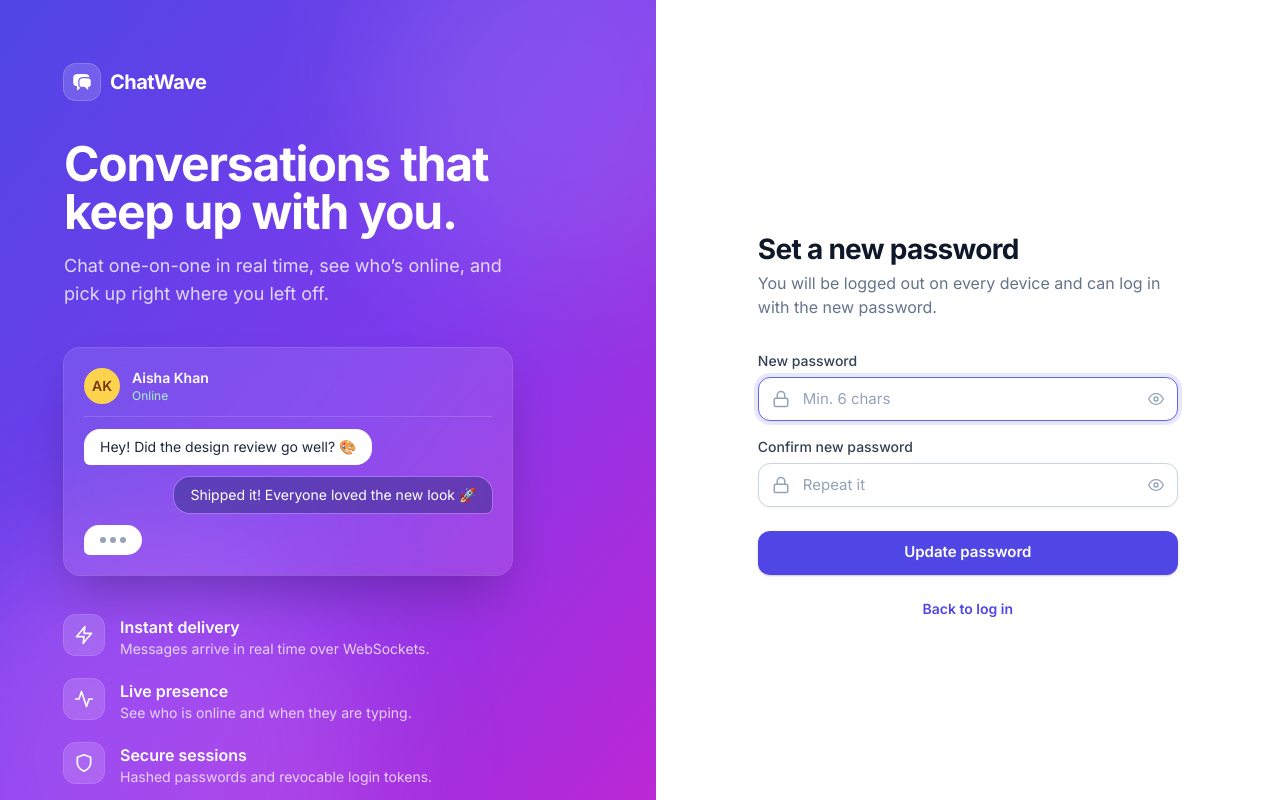
Test: Reset password page › an expired link from the server switches to the invalid-link screen
Type "newpass1" into the password field labelled "New password" at (968, 398), box [758, 376, 1178, 420]
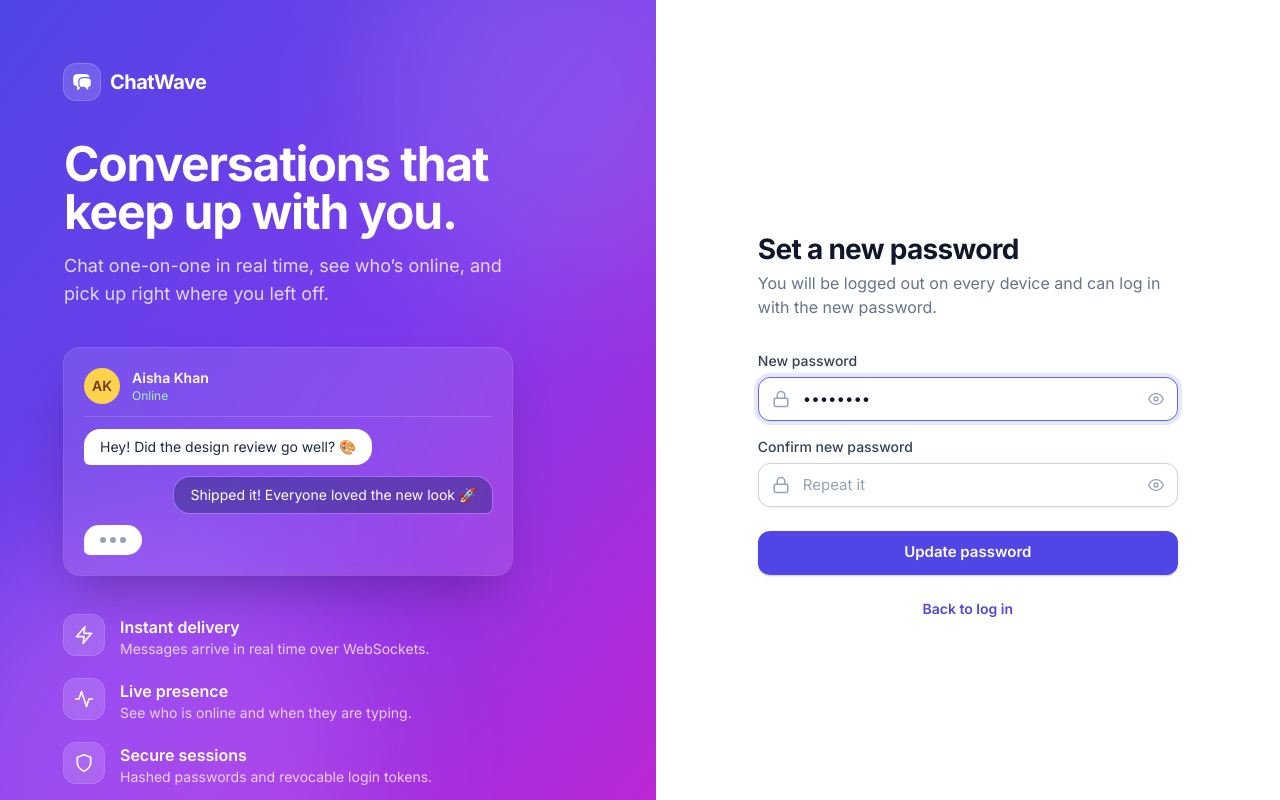
Type "newpass1" into the password field labelled "Confirm new password" at (968, 484), box [758, 462, 1178, 506]
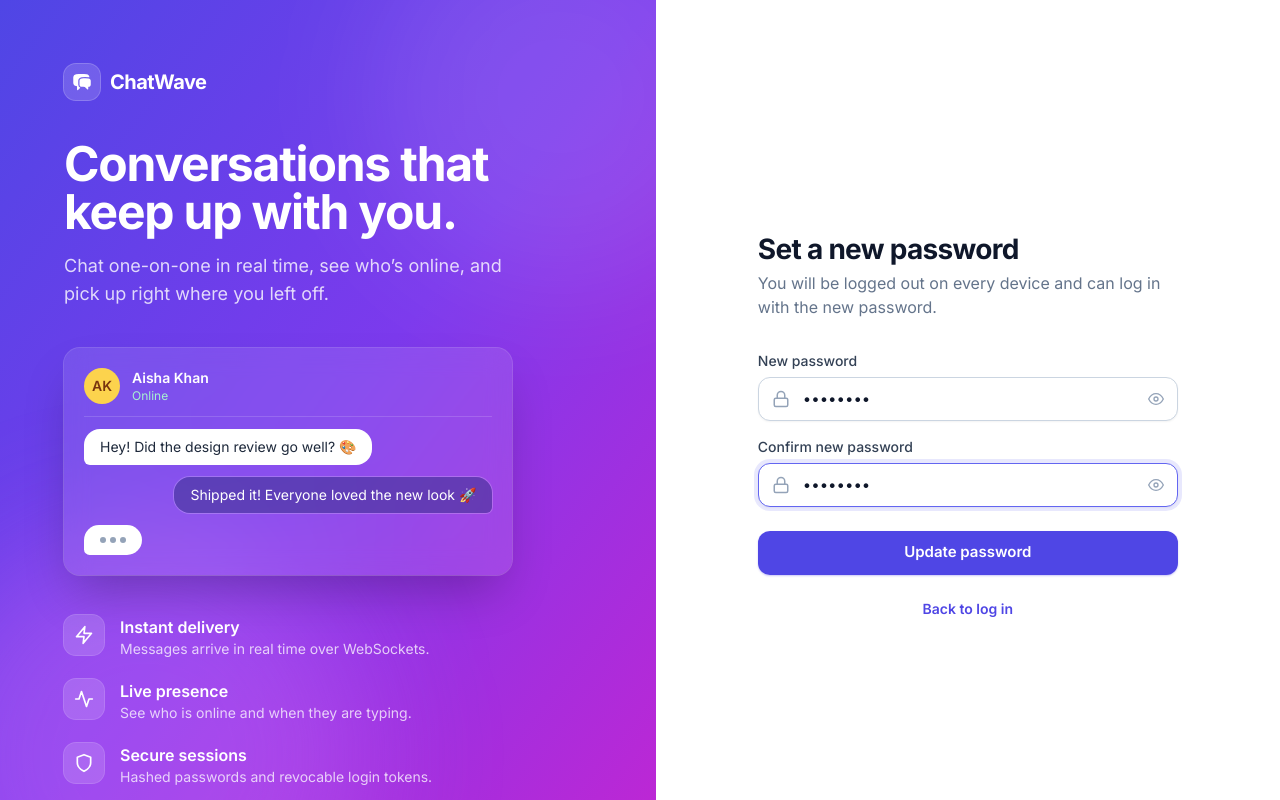
Click the button "Update password" at (968, 552), box [758, 530, 1178, 574]
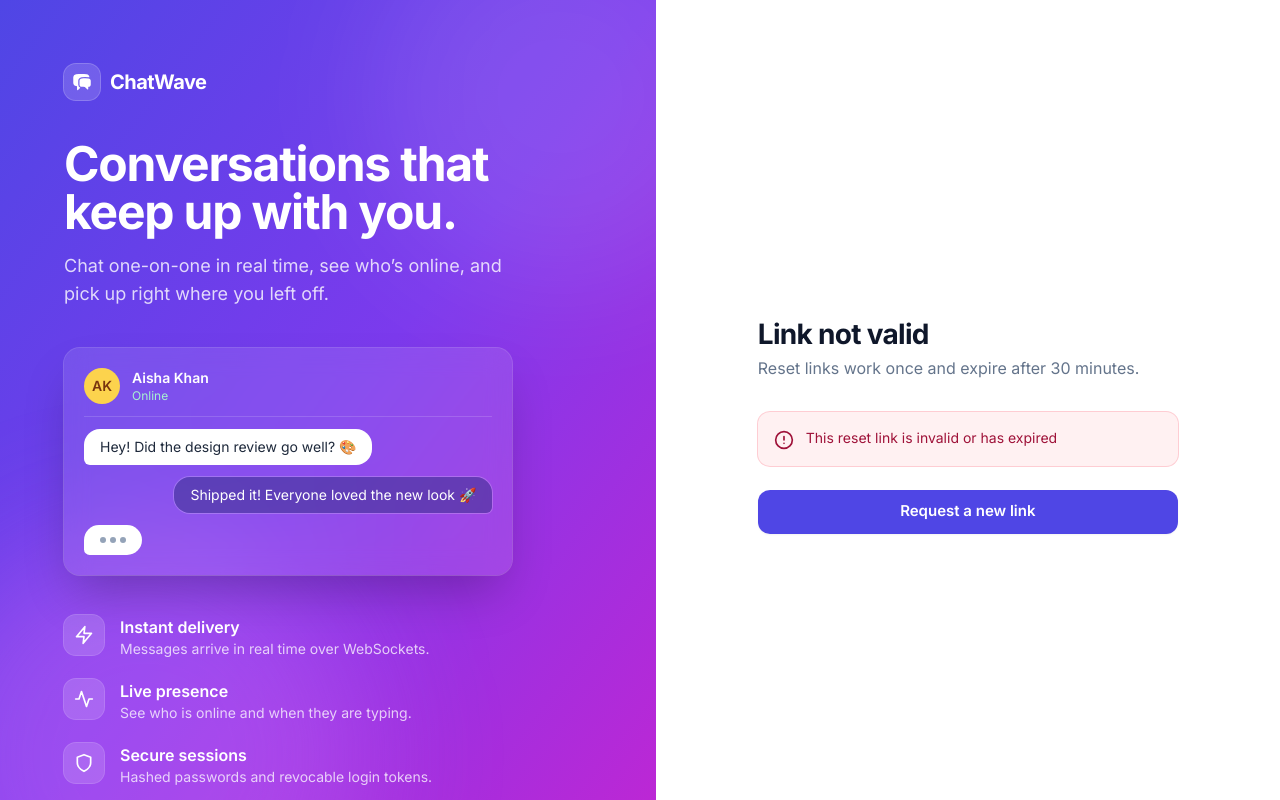
Result: the heading "Link not valid" is shown at [758, 316, 929, 350]
Result: the message shows "invalid or has expired" at [806, 428, 1057, 446]
